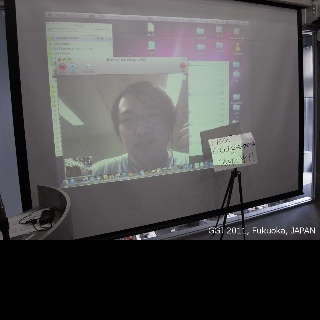without_mask: (109, 80, 178, 162)
